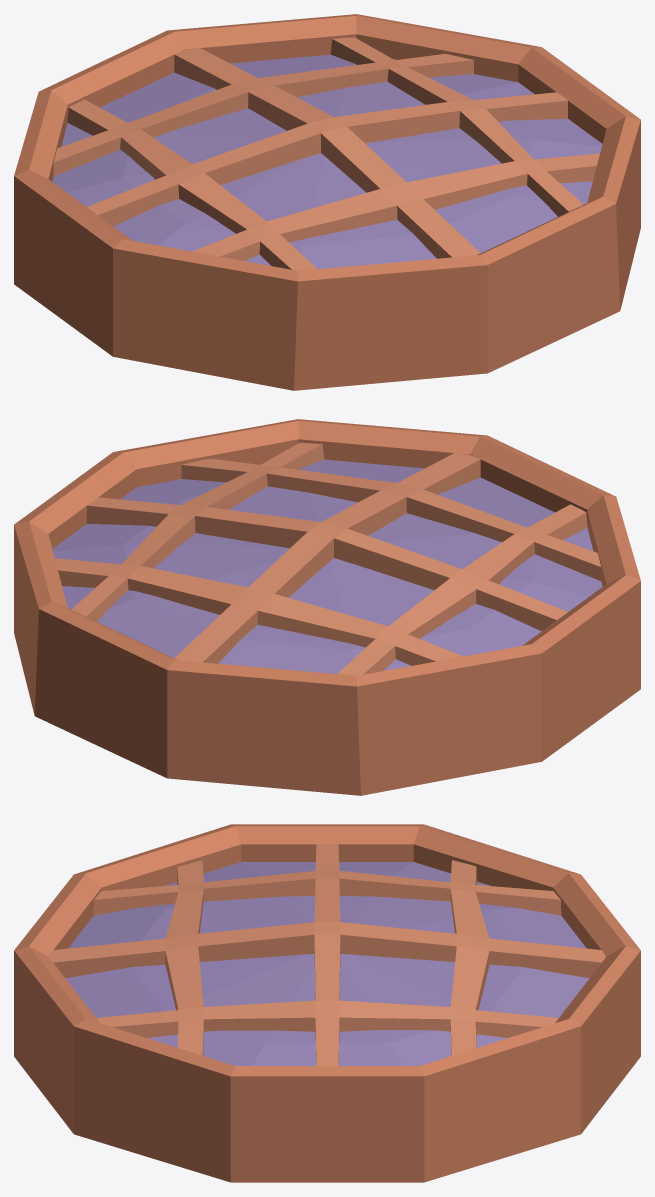
Rendered from Pie_01.fbx.
3 views of the same model, one above another, from view 1: azimuth 30°, elevation 25°; view 2: azimuth 150°, elevation 25°; view 3: azimuth 270°, elevation 25° (orthographic). The views are drawn at different scales.
Visible parts, largest first — view 1: Pie_01; view 2: Pie_01; view 3: Pie_01.
Boxes of the visible parts, <box> form: Pie_01: <box>14,14,640,390</box>; Pie_01: <box>14,419,640,795</box>; Pie_01: <box>14,824,640,1182</box>.
Size of the model in its own units: 25.67 by 6.08 by 26.99.
